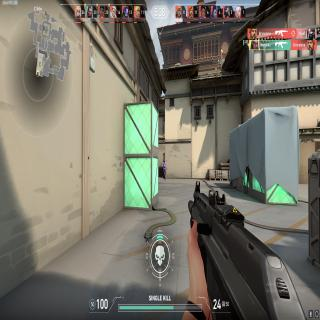ENEMY-BODY: (162, 160, 166, 181)
ENEMY-HEAD: (164, 160, 165, 163)
